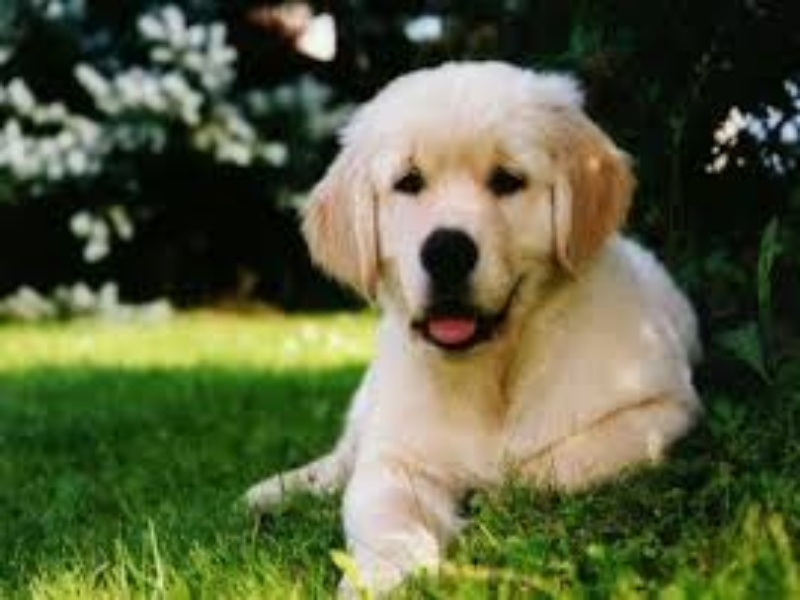dog: (221, 27, 729, 585)
